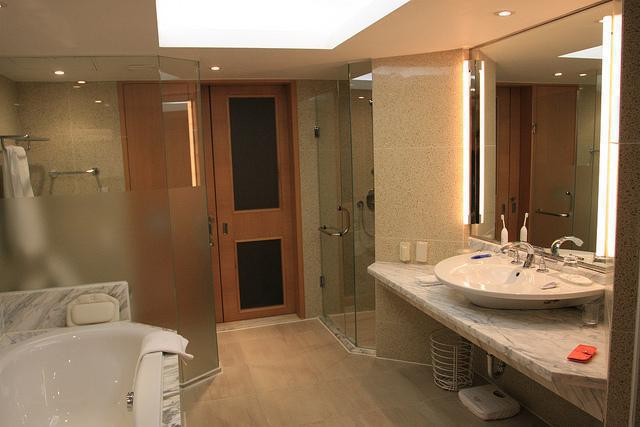Ducha: (319, 70, 469, 373)
Lavamanos: (428, 225, 608, 319)
